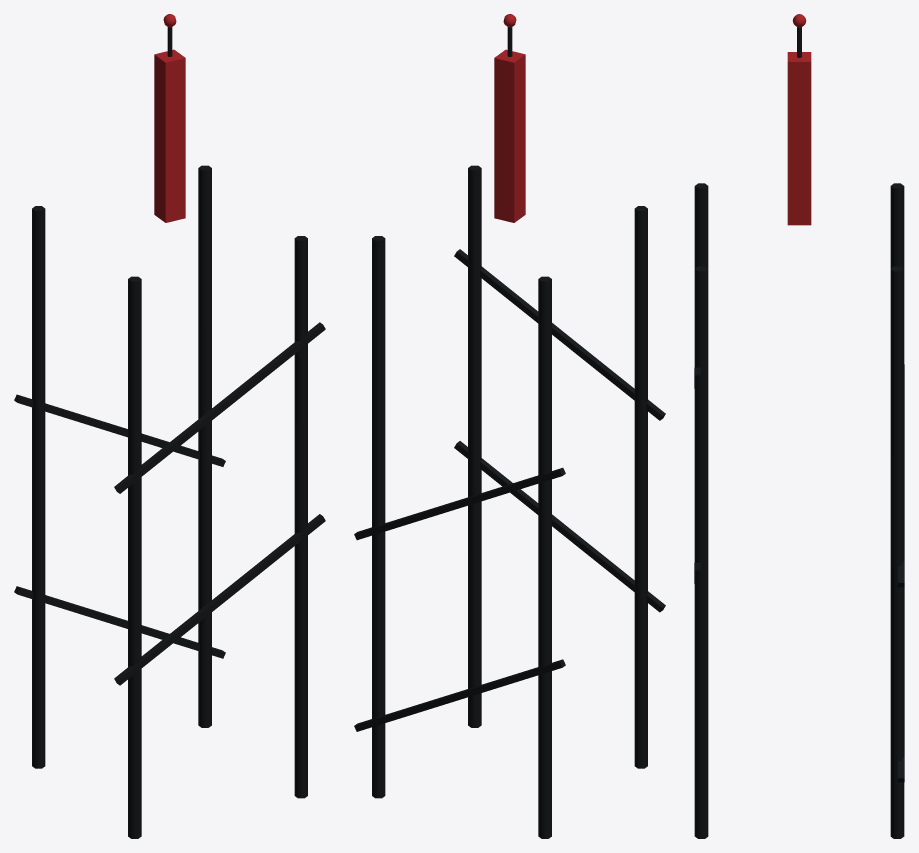
File: comms-tower.glb
3 renders of one model, left to right at view 1: azimuth 30°, elevation 25°; view 2: azimuth 150°, elevation 25°; view 3: azimuth 270°, elevation 25°, orthographic.
Parts seen in each view (by area): view 1: postRR, postRL, postFL, postFR, antennaArray, crossBrace2, crossBrace4, crossBrace3, crossBrace1; view 2: postRL, postRR, postFR, postFL, antennaArray, crossBrace4, crossBrace2, crossBrace3, crossBrace1; view 3: postFL, postFR, antennaArray, postRL, postRR.
Boxes of the visible parts, box(x1,y1,x2,y2) form: postRR: box(32, 206, 45, 768); postRL: box(128, 276, 141, 838); postFL: box(294, 236, 307, 798); postFR: box(198, 165, 211, 727); antennaArray: box(154, 49, 185, 222); crossBrace2: box(114, 514, 325, 685); crossBrace4: box(114, 322, 325, 493); crossBrace3: box(14, 394, 225, 466); crossBrace1: box(14, 586, 225, 658); postRL: box(634, 206, 647, 768); postRR: box(538, 276, 551, 838); postFR: box(372, 236, 385, 798); postFL: box(468, 165, 481, 727); antennaArray: box(494, 49, 525, 222); crossBrace4: box(454, 249, 665, 420); crossBrace2: box(454, 441, 665, 612); crossBrace3: box(354, 467, 565, 540); crossBrace1: box(354, 659, 565, 731); postFL: box(694, 266, 708, 838); postFR: box(890, 266, 904, 838); antennaArray: box(787, 52, 811, 225); postRL: box(694, 183, 708, 268); postRR: box(890, 183, 904, 268).
Size of the model in its own units: 1.25 by 4.4 by 1.08.
